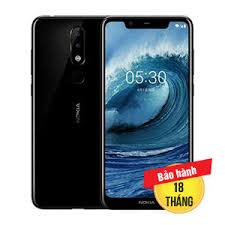nokia: (101, 13, 194, 212), (30, 13, 106, 210)
